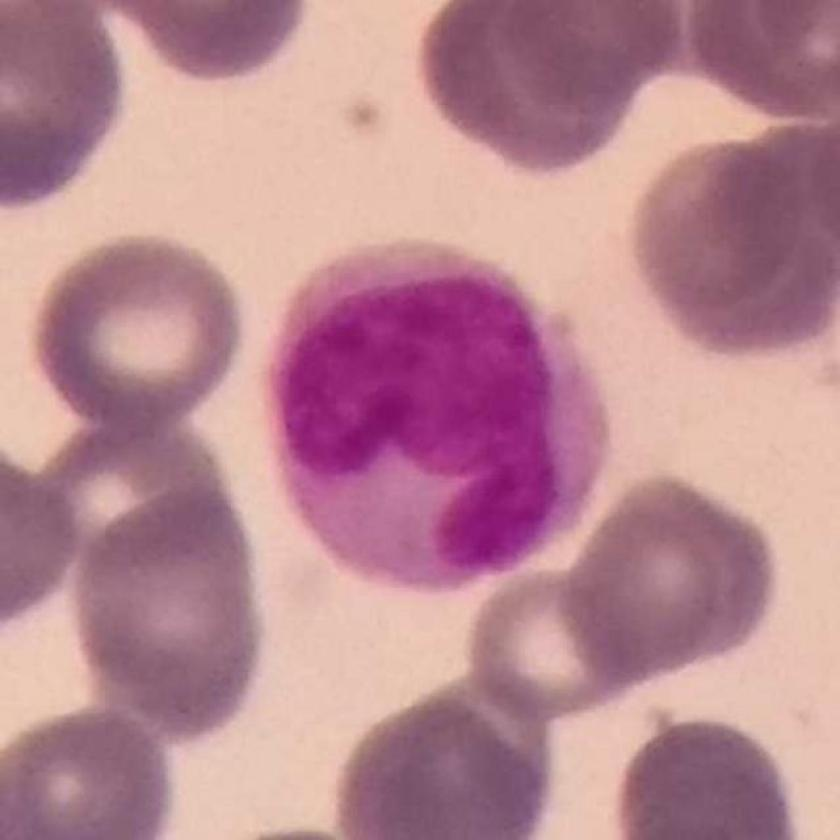monocyte: (270, 235, 618, 593)
